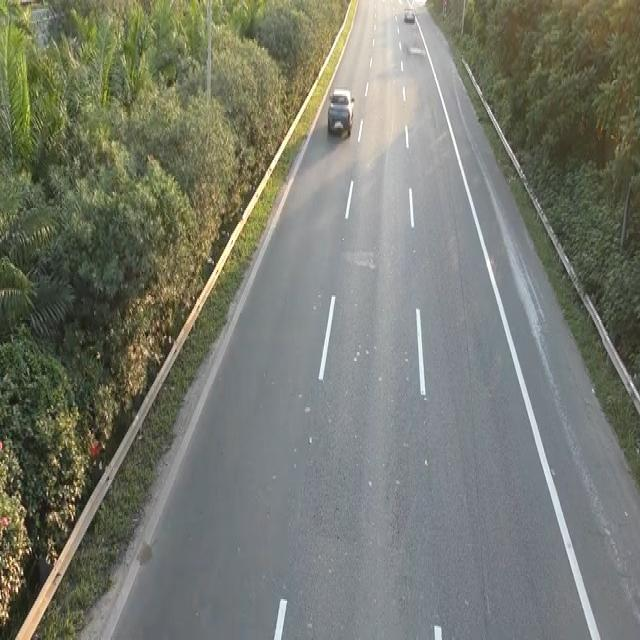bus: (402, 5, 415, 23)
car: (326, 85, 355, 139)
